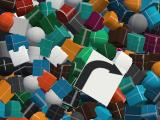Right: (74, 50, 126, 106)
